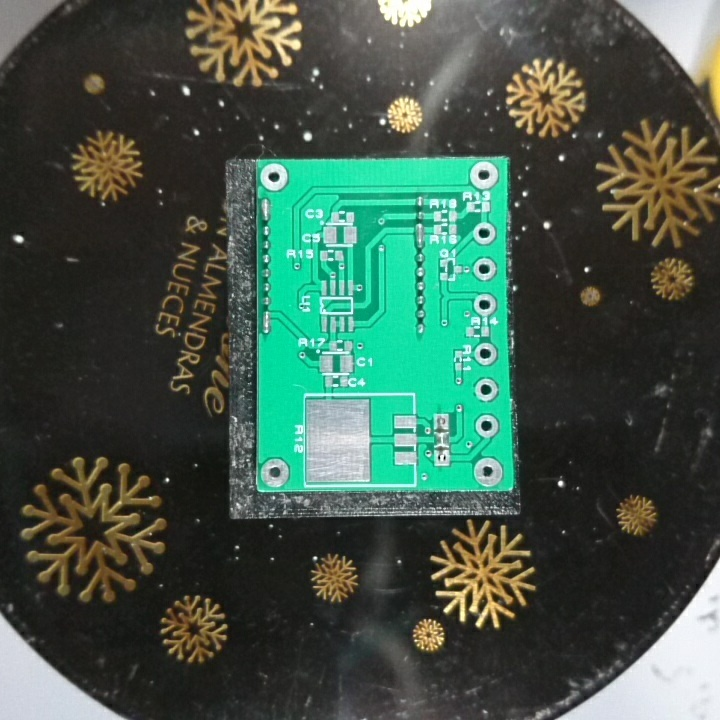F: (471, 452, 505, 488), (467, 159, 501, 194), (259, 160, 293, 194), (259, 457, 294, 489), (468, 289, 501, 319), (469, 254, 499, 283), (471, 340, 501, 369), (473, 412, 501, 440), (472, 220, 499, 249), (472, 376, 501, 403), (432, 446, 452, 470), (432, 412, 453, 434)
P: (412, 221, 429, 250), (259, 309, 273, 335), (260, 195, 272, 223)
